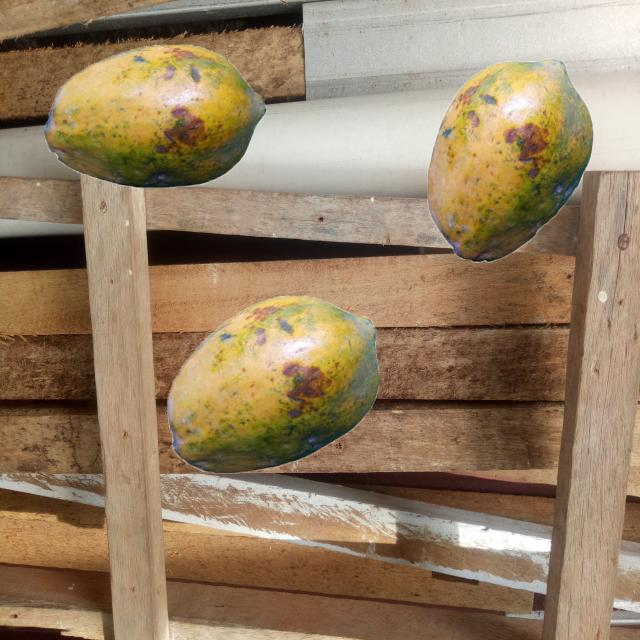Pepaya rippen: (32, 36, 278, 223), (159, 289, 390, 486), (419, 38, 600, 272)
